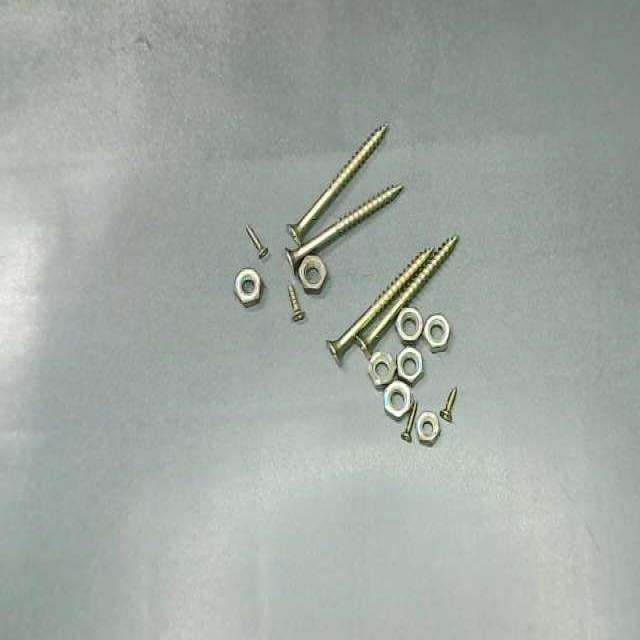Parafuso: (327, 248, 433, 363), (356, 236, 457, 355), (287, 124, 387, 243), (285, 187, 401, 271), (245, 226, 268, 258), (401, 400, 417, 442), (287, 283, 304, 321), (440, 387, 457, 422)
Porca: (298, 255, 326, 294), (234, 268, 262, 306), (384, 380, 411, 419), (395, 307, 422, 345), (368, 352, 395, 389), (396, 347, 422, 385), (424, 315, 449, 353), (416, 411, 439, 446)
